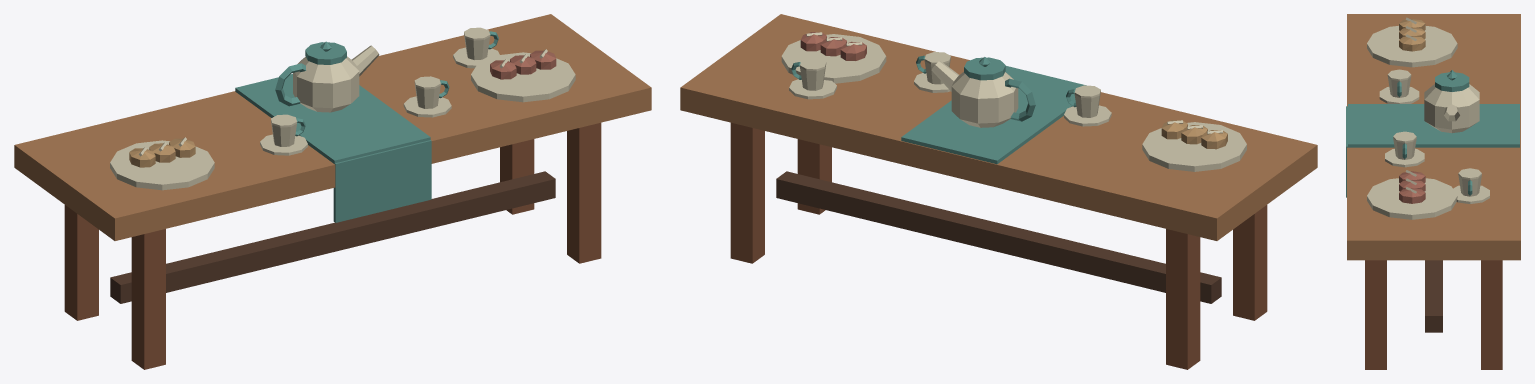
File: festival_table.glb
3 renders of one model, left to right at view 1: azimuth 30°, elevation 25°; view 2: azimuth 150°, elevation 25°; view 3: azimuth 270°, elevation 25°, orthographic. The views are drawn at different scales.
Visible parts, largest first — view 1: geometry; view 2: geometry; view 3: geometry.
Part boxes in pixels (bbox=[...]): geometry: bbox=[14, 14, 651, 369]; geometry: bbox=[680, 14, 1317, 369]; geometry: bbox=[1346, 14, 1520, 369].
Bounding box in the file's own units: 2.96 × 1.24 × 0.965.
